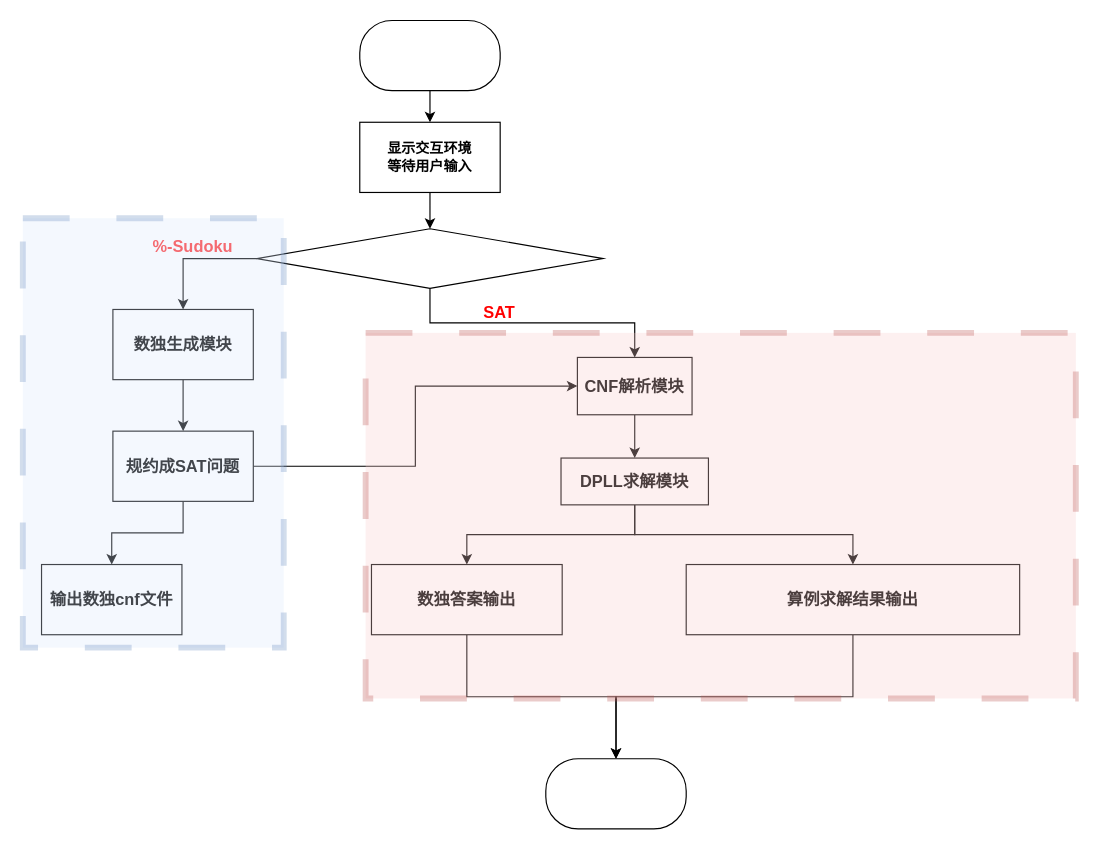
This 1099x849 diagram has some shape labels left out. Here are the shapes that lost their labels. From the top down, the centre of each, then its label:
the point at 429,55: 程序启动
the point at 429,258: SAT or %-Sudoku
the point at 615,793: 程序结束
